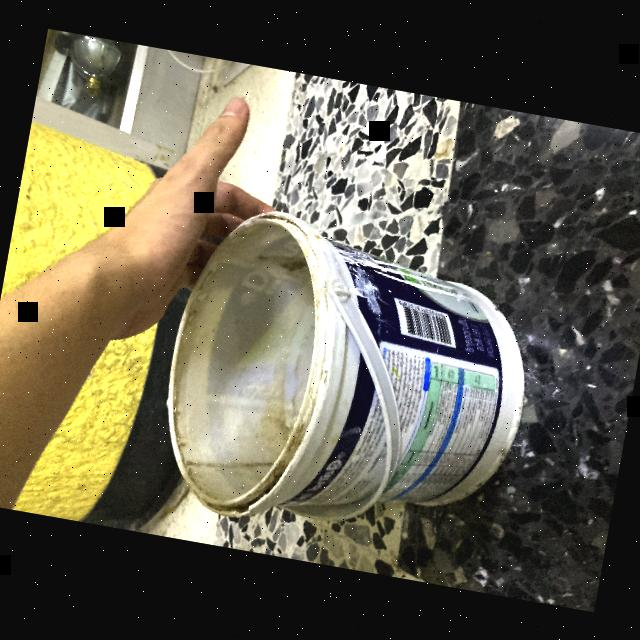paint_bucket: (147, 199, 546, 562)
